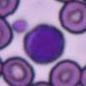L: (24, 25, 66, 64)
